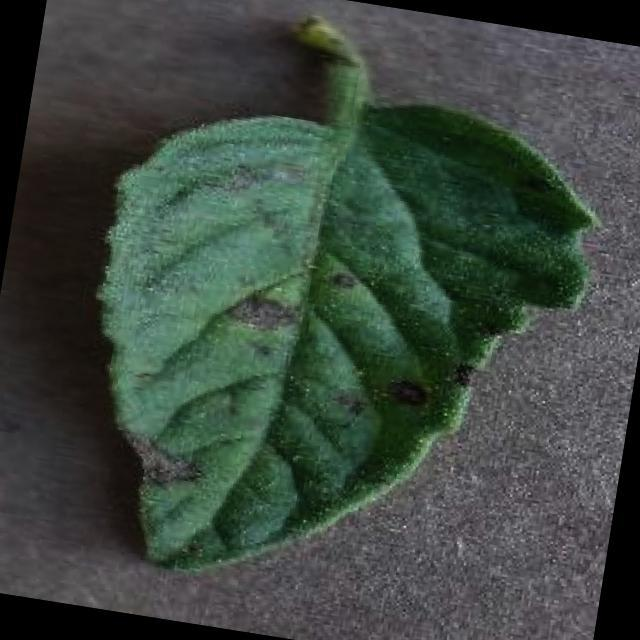Tomato Early blight leaf: (54, 54, 612, 626)
